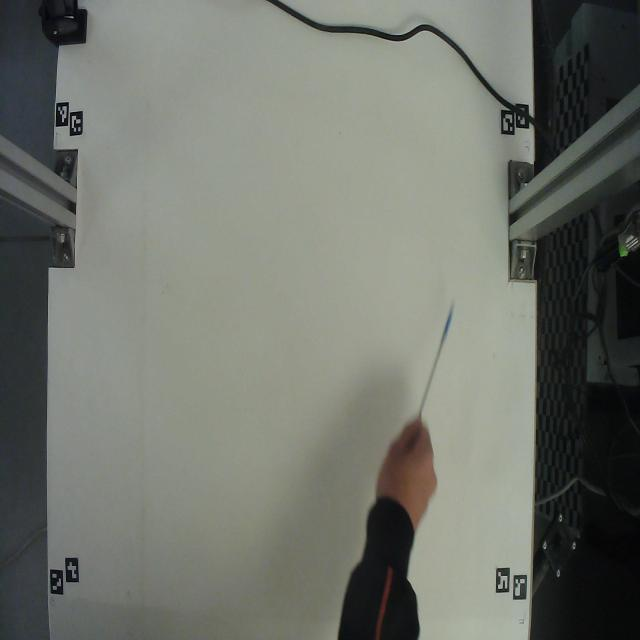NoPres: (414, 284, 458, 422)
